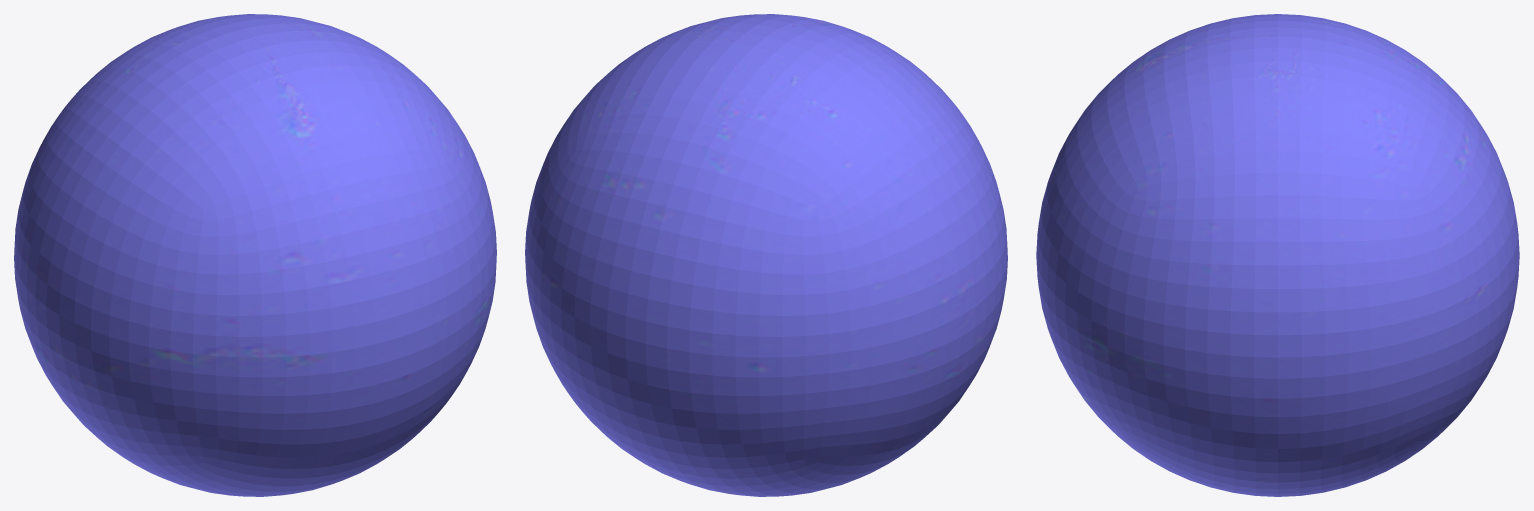
3 views of the same model, side by side, from view 1: azimuth 30°, elevation 25°; view 2: azimuth 150°, elevation 25°; view 3: azimuth 270°, elevation 25° (orthographic).
Visible parts, largest first — view 1: S_Sphere_HP.mo; view 2: S_Sphere_HP.mo; view 3: S_Sphere_HP.mo.
Part boxes in pixels (x1,y1,x2,y2): S_Sphere_HP.mo: (14,14,496,496); S_Sphere_HP.mo: (525,14,1007,496); S_Sphere_HP.mo: (1036,14,1519,496).
Bounding box in the file's own units: 1000 × 1000 × 1000.
